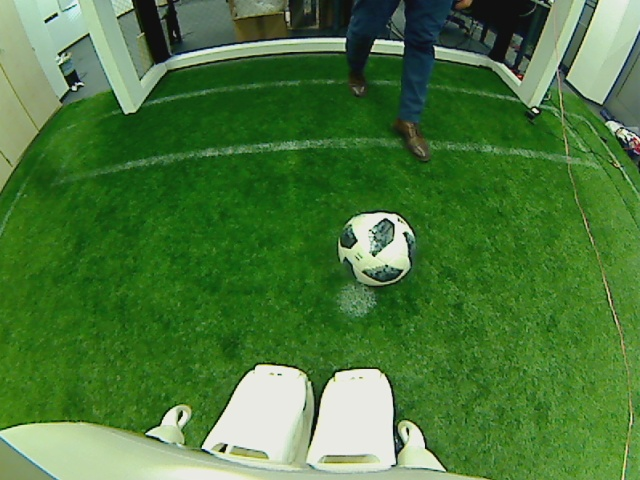ball: (339, 211, 413, 287)
